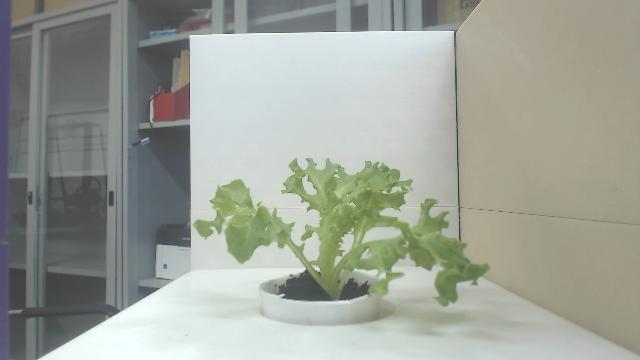Vegetative Stage: (193, 156, 492, 310)
